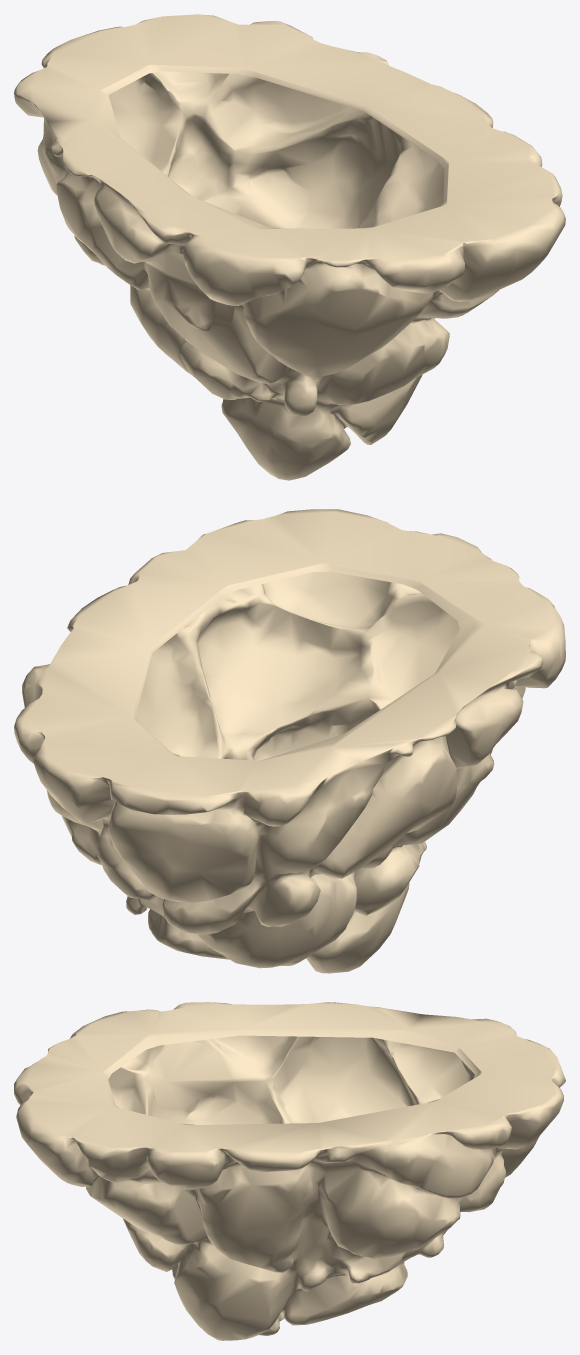
Rendered from island_1_LOD3.fbx.
The picture shows the model from 3 angles, top to bottom: view 1: azimuth 30°, elevation 25°; view 2: azimuth 150°, elevation 25°; view 3: azimuth 270°, elevation 25°; orthographic projection. The views are drawn at different scales.
Parts seen in each view (by area): view 1: island_1_LOD3; view 2: island_1_LOD3; view 3: island_1_LOD3.
Boxes of the visible parts, x1,y1,x2,y2 form: island_1_LOD3: (14, 14, 565, 480); island_1_LOD3: (14, 509, 565, 973); island_1_LOD3: (14, 1002, 565, 1340).
Size of the model in its own units: 2161 by 1696 by 3228.
